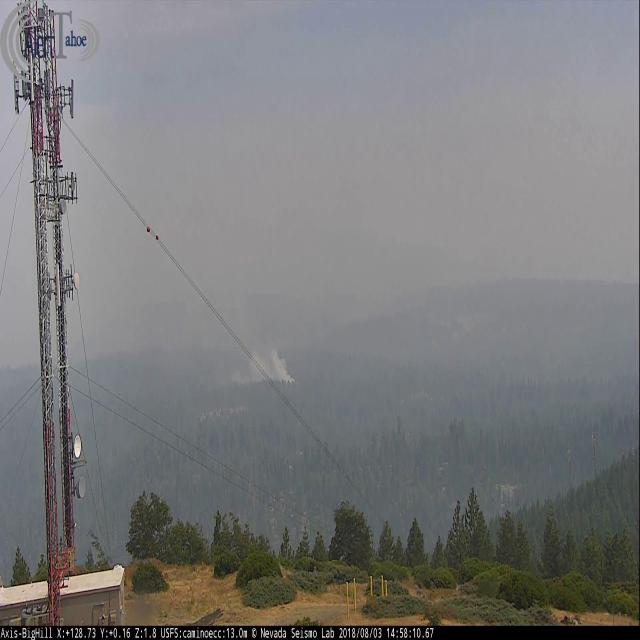smoke: (167, 281, 296, 387)
